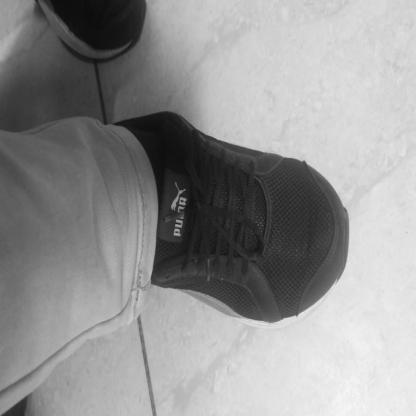ankle: (166, 176, 170, 182)
heel: (126, 123, 129, 127)
pinky: (296, 307, 300, 313)
right_foot: (112, 111, 351, 329)
toe: (323, 181, 326, 188)
